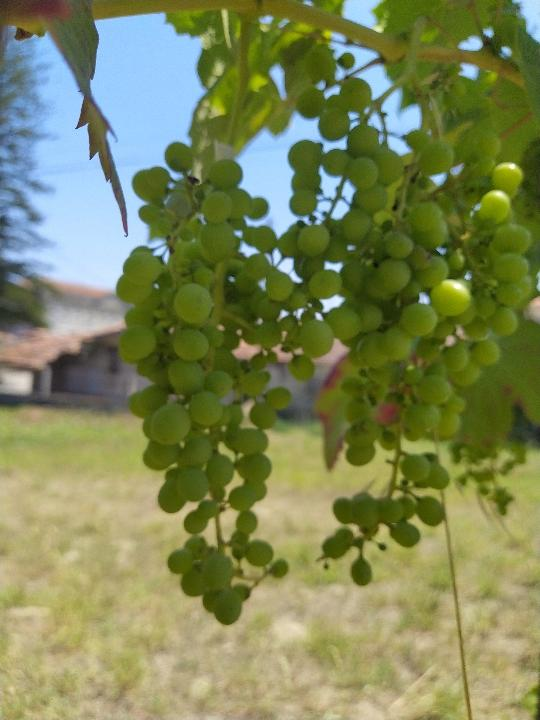grape: (285, 46, 537, 587), (111, 139, 315, 628)
